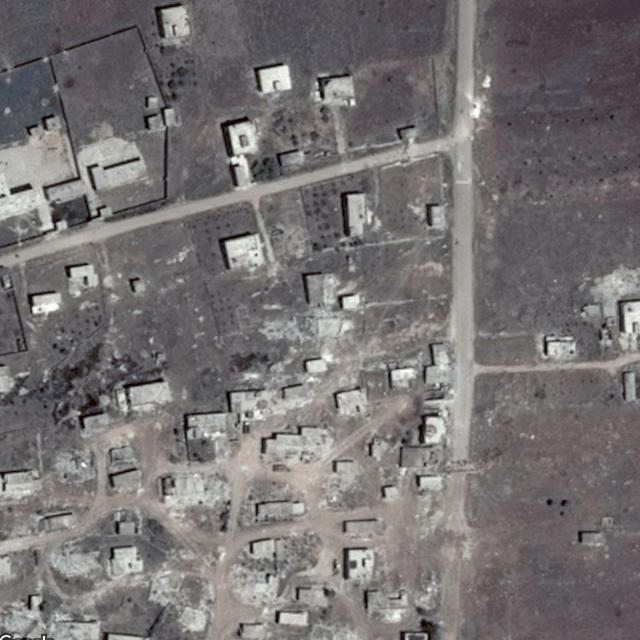damaged_building: (226, 532, 325, 606), (151, 568, 210, 632), (156, 469, 232, 506), (47, 544, 103, 578), (46, 446, 95, 481), (301, 272, 341, 307), (411, 566, 440, 609), (314, 312, 356, 336)
